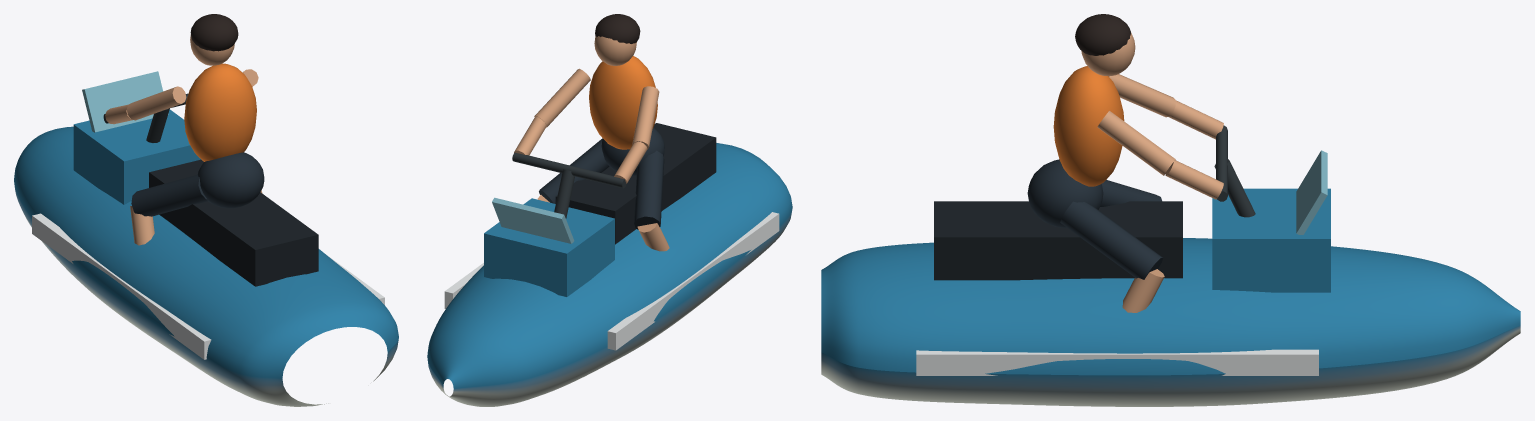
Rendered from jetski.glb.
The picture shows the model from 3 angles, left to right: view 1: azimuth 30°, elevation 25°; view 2: azimuth 150°, elevation 25°; view 3: azimuth 270°, elevation 25°; orthographic projection. The views are drawn at different scales.
Visible parts, largest first — view 1: JetHull, JetSeat, Cowl, RiderVest, JetStripeAssembly, RiderHips, Windshield, RiderUpperArmAssembly, RiderThighAssembly, RiderHair, RiderHead, SteeringColumnAssembly; view 2: JetHull, Cowl, JetSeat, RiderVest, RiderUpperArmAssembly, JetStripeAssembly, RiderThighAssembly, Windshield, SteeringColumnAssembly, RiderHair, RiderHead, RiderHips; view 3: JetHull, JetSeat, Cowl, JetStripeAssembly, RiderUpperArmAssembly, RiderVest, RiderThighAssembly, RiderHips, RiderHair, Windshield, SteeringColumnAssembly, RiderHead.
Boxes of the visible parts, x1,y1,x2,y2 form: JetHull: (14, 126, 398, 406); JetSeat: (149, 159, 318, 286); Cowl: (73, 109, 200, 204); RiderVest: (184, 63, 256, 161); JetStripeAssembly: (32, 213, 384, 359); RiderHips: (197, 152, 264, 208); Windshield: (82, 71, 168, 132); RiderUpperArmAssembly: (105, 69, 262, 245); RiderThighAssembly: (131, 174, 207, 216); RiderHair: (190, 14, 238, 51); RiderHead: (190, 34, 234, 65); SteeringColumnAssembly: (103, 93, 188, 142); JetHull: (427, 143, 792, 406); Cowl: (484, 198, 614, 296); JetSeat: (555, 123, 716, 244); RiderVest: (589, 56, 657, 149); RiderUpperArmAssembly: (514, 68, 669, 251); JetStripeAssembly: (444, 212, 779, 350); RiderThighAssembly: (539, 138, 664, 229); Windshield: (492, 197, 574, 243); SteeringColumnAssembly: (512, 152, 626, 218); RiderHair: (595, 14, 640, 43); RiderHead: (594, 36, 636, 65); RiderHips: (601, 127, 664, 175); JetHull: (821, 238, 1520, 406); JetSeat: (934, 201, 1182, 280); Cowl: (1212, 188, 1330, 292); JetStripeAssembly: (916, 349, 1318, 375); RiderUpperArmAssembly: (1097, 74, 1223, 312); RiderVest: (1053, 66, 1124, 186); RiderThighAssembly: (1060, 180, 1162, 279); RiderHips: (1027, 159, 1103, 227); RiderHair: (1075, 14, 1130, 55); Windshield: (1296, 150, 1327, 234); SteeringColumnAssembly: (1214, 125, 1255, 217); RiderHead: (1081, 32, 1135, 75).
Size of the model in its own units: 1.06 by 1.73 by 2.95.
